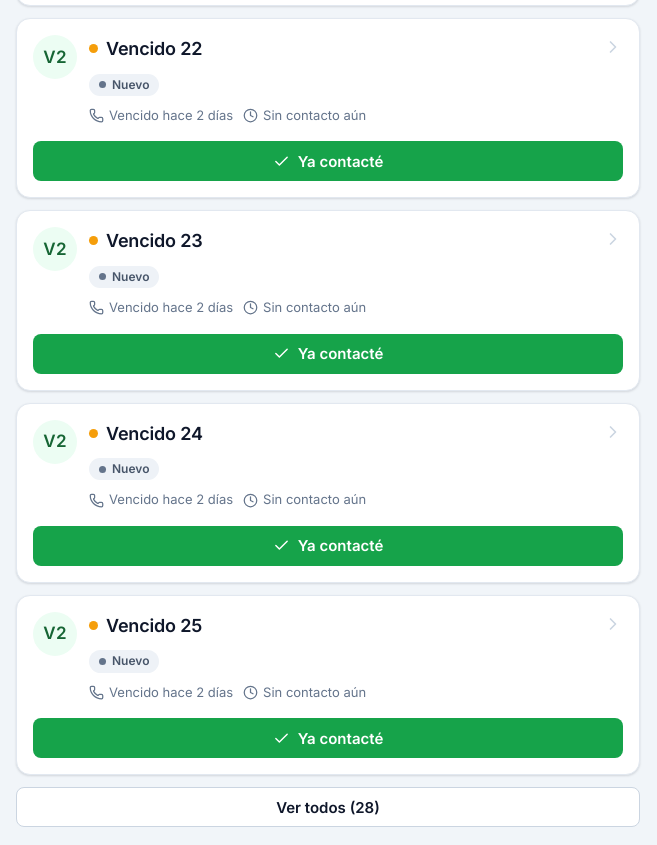
vencidos: VENCIDOS_VISIBLES y expansión local › muestra 25, expande con 'Ver todos (N)' sin volver a pedir datos
(page scrolled)
expect the text "Vencido 25" is shown: met, box [106,612,202,639]
expect the text "Vencido 26" is not shown: met
What coordinates should you click on to do the following:
click the button "Ver todos (28)"
I would click on:
 (328, 807)
Its box is [16,787,640,827].
(page scrolled)
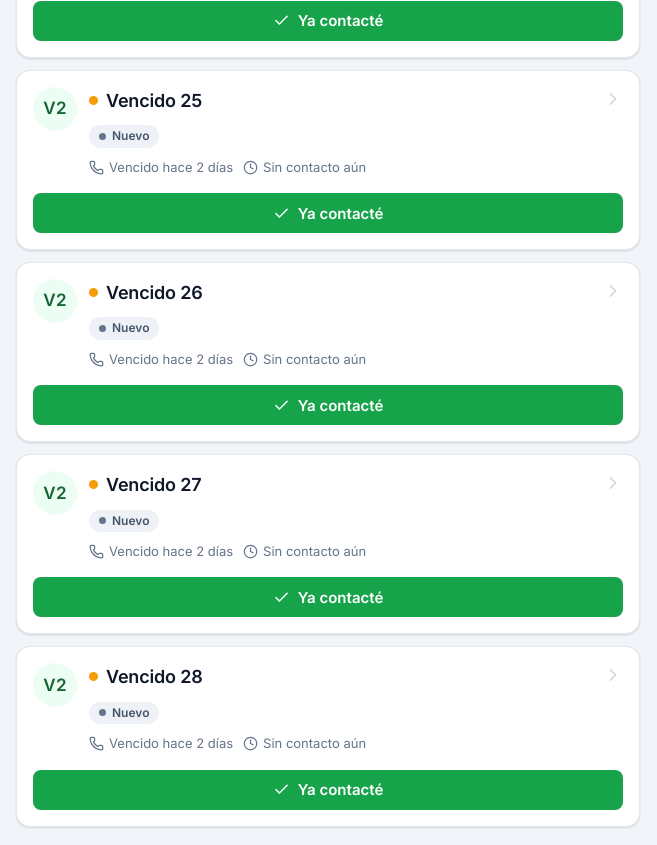
expect the text "Vencido 26" is shown: met, box [106,279,203,306]
expect the text "Vencido 28" is shown: met, box [106,664,203,690]
expect the button "Ver todos" is gone: met
